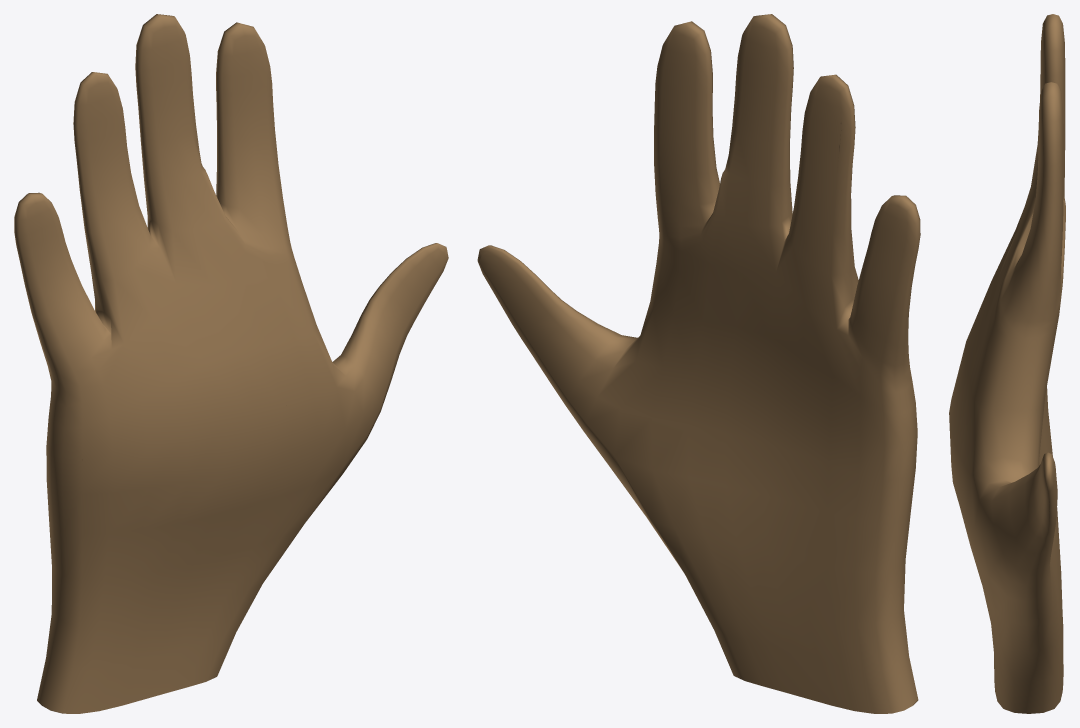
The model's file is hand.fbx.
The picture shows the model from 3 angles, left to right: view 1: azimuth 30°, elevation 25°; view 2: azimuth 150°, elevation 25°; view 3: azimuth 270°, elevation 25°; orthographic projection. The views are drawn at different scales.
Parts seen in each view (by area): view 1: Cube; view 2: Cube; view 3: Cube.
Part boxes in pixels (x1,y1,x2,y2): Cube: [14, 14, 448, 713]; Cube: [477, 14, 920, 713]; Cube: [949, 14, 1065, 713].
Bounding box in the file's own units: 265 × 385 × 59.92.
Materials: 1 (1 with a texture image).
